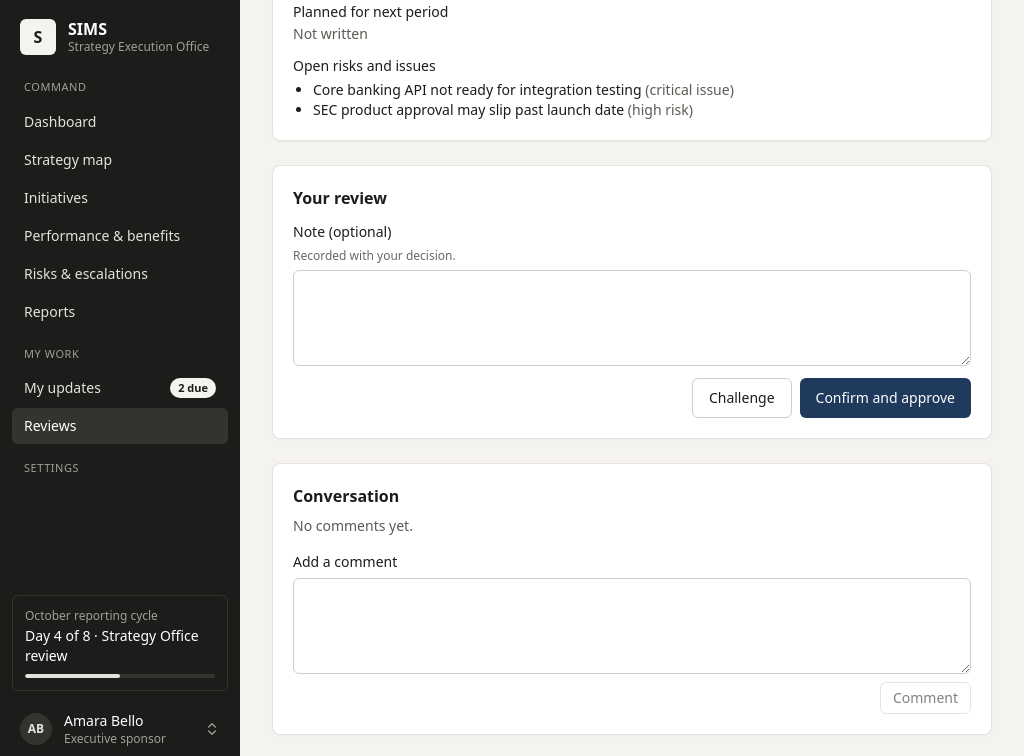
Update reviews › confirms and approves from the review panel
(page scrolled)
Click the button "Confirm and approve": x=885, y=398 [800, 378, 971, 418]
(page scrolled)
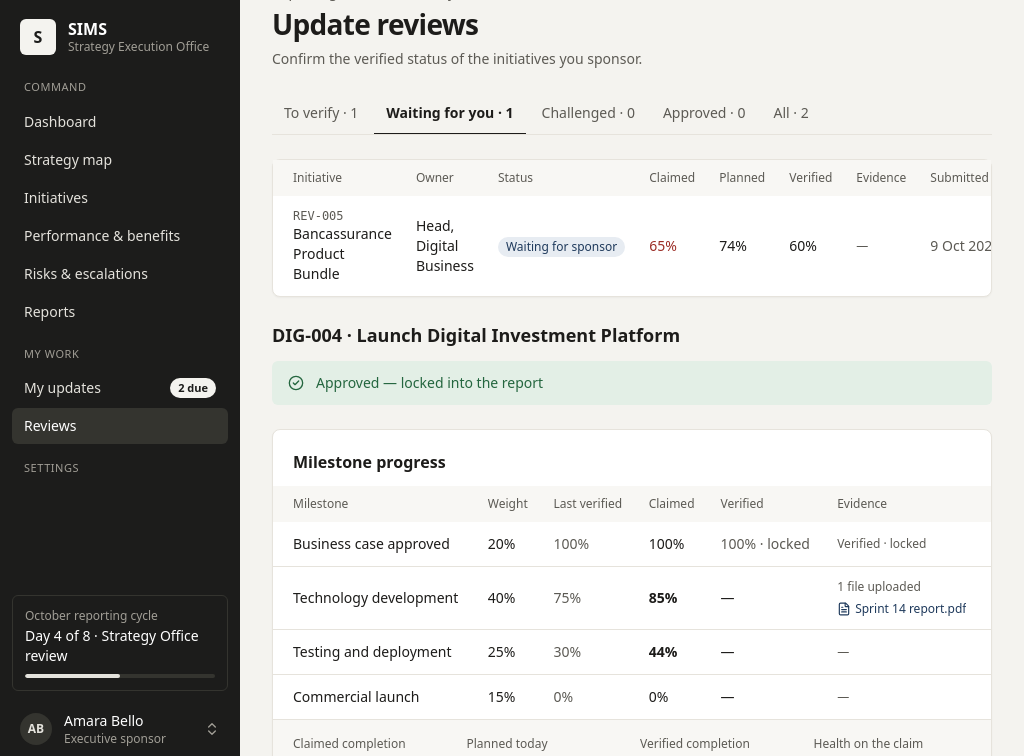
Expected: the text "Approved — locked into the report" is shown, [316, 373, 543, 393]
